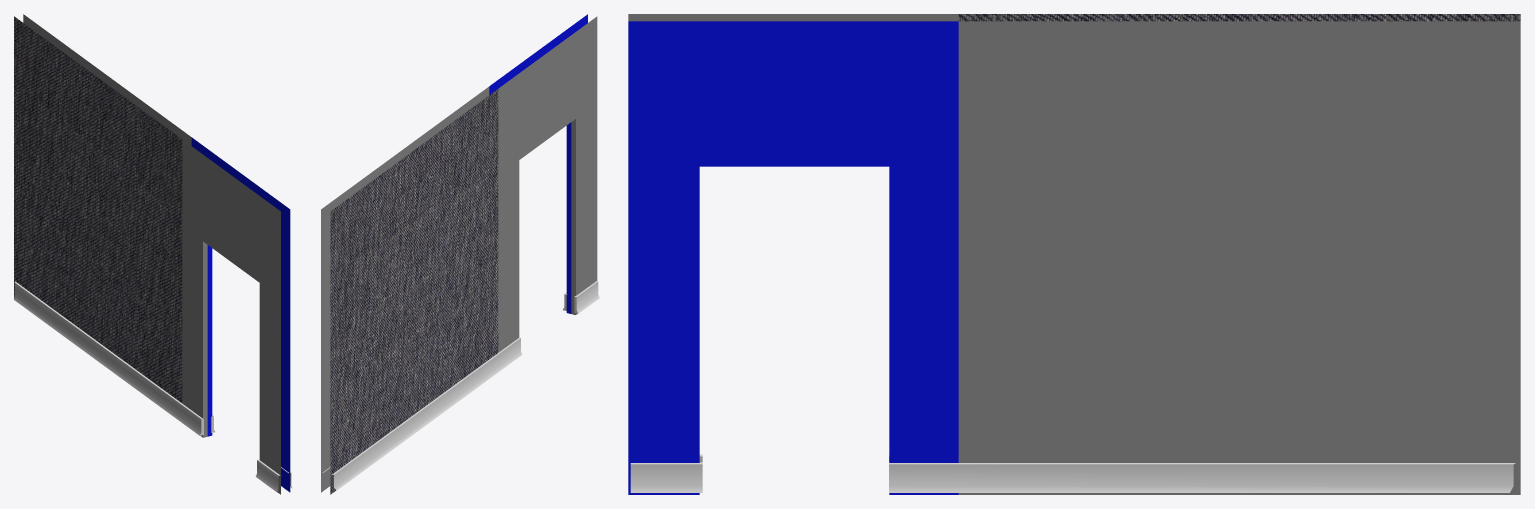
Rendered from FLAT_wall_02.FBX.
3 views of the same model, side by side, from view 1: azimuth 30°, elevation 25°; view 2: azimuth 150°, elevation 25°; view 3: azimuth 270°, elevation 25° (orthographic). The views are drawn at different scales.
Visible parts, largest first — view 1: FLAT_wall_02, FLAT_wall_02_plinthe; view 2: FLAT_wall_02, FLAT_wall_02_plinthe; view 3: FLAT_wall_02, FLAT_wall_02_plinthe.
Part boxes in pixels (left/top/right/bottom): FLAT_wall_02: left=14, top=14, right=290, bottom=494; FLAT_wall_02_plinthe: left=14, top=281, right=292, bottom=492; FLAT_wall_02: left=321, top=14, right=597, bottom=494; FLAT_wall_02_plinthe: left=322, top=281, right=599, bottom=490; FLAT_wall_02: left=628, top=14, right=1520, bottom=494; FLAT_wall_02_plinthe: left=630, top=454, right=1515, bottom=492.
Bounding box in the file's own units: 24.4 × 421 × 719.
Materials: 4 (1 with a texture image).
